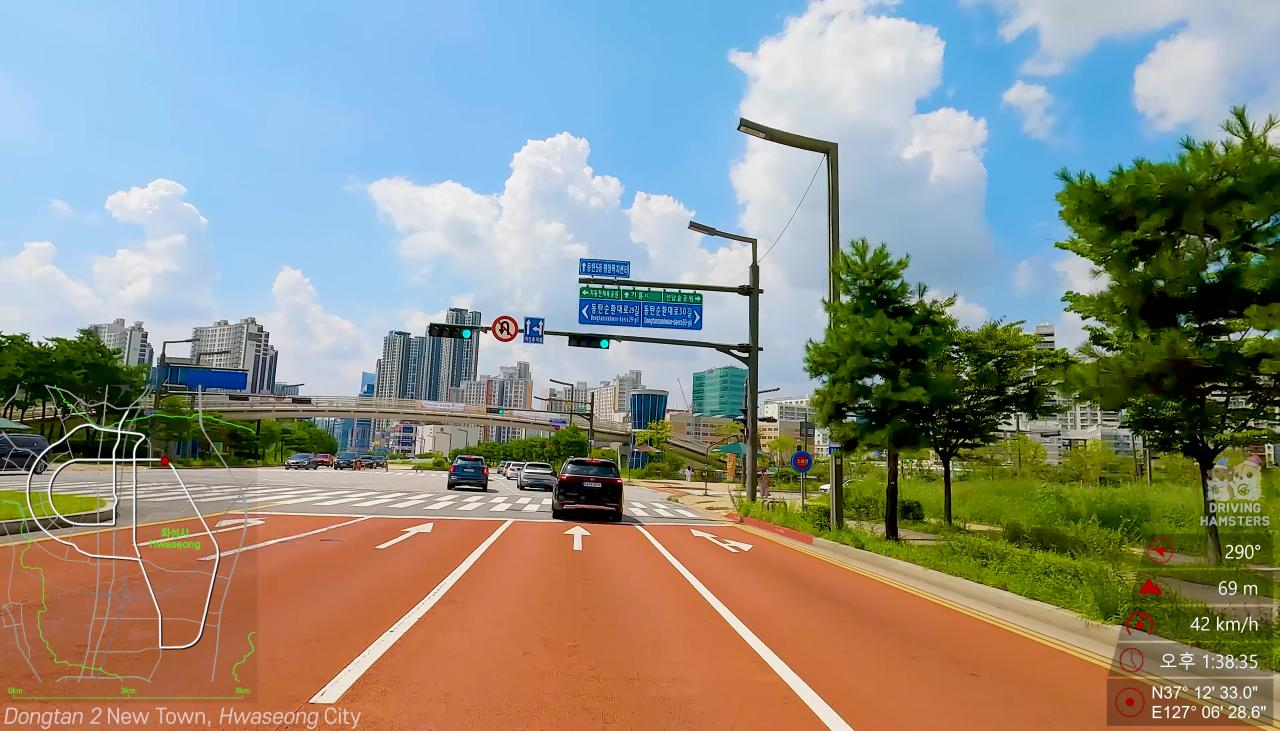Green Light: (461, 328, 472, 339), (599, 338, 610, 348), (499, 409, 503, 414)
